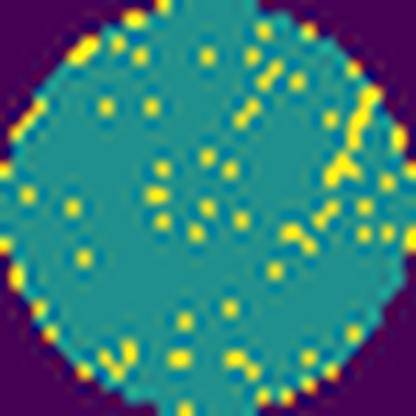Scratch: (320, 88, 380, 194)
